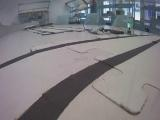tl_green: (128, 13, 133, 30)
